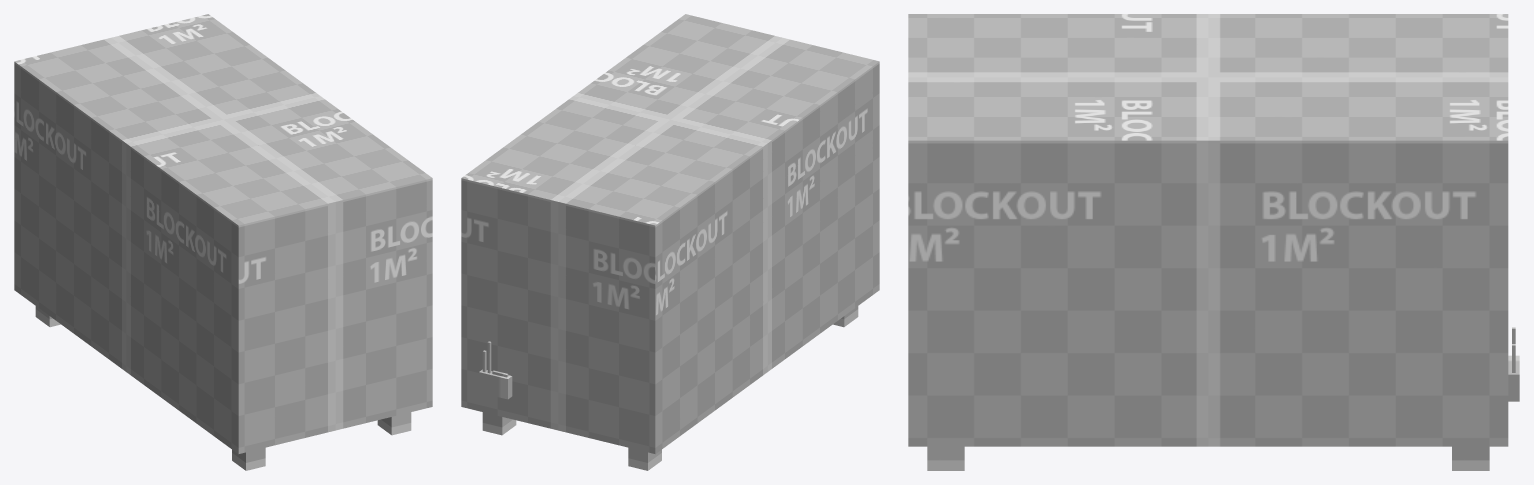
The model's file is ToolboxLarge.fbx.
3 views of the same model, side by side, from view 1: azimuth 30°, elevation 25°; view 2: azimuth 150°, elevation 25°; view 3: azimuth 270°, elevation 25° (orthographic). The views are drawn at different scales.
Parts seen in each view (by area): view 1: ToolboxLarge; view 2: ToolboxLarge; view 3: ToolboxLarge.
Boxes of the visible parts, x1=… form: ToolboxLarge: x1=14, y1=14, x2=432, y2=470; ToolboxLarge: x1=461, y1=14, x2=879, y2=470; ToolboxLarge: x1=908, y1=14, x2=1519, y2=470.
Size of the model in its own units: 80 by 100 by 163.
